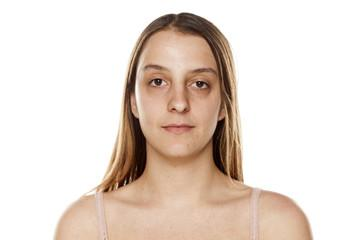Eyebags: (187, 87, 210, 98), (148, 86, 169, 97)
